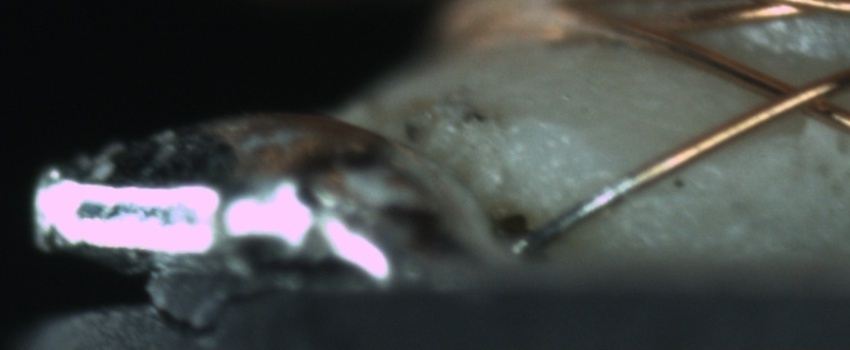CL: (744, 67, 845, 126)
TS: (505, 174, 641, 260)
